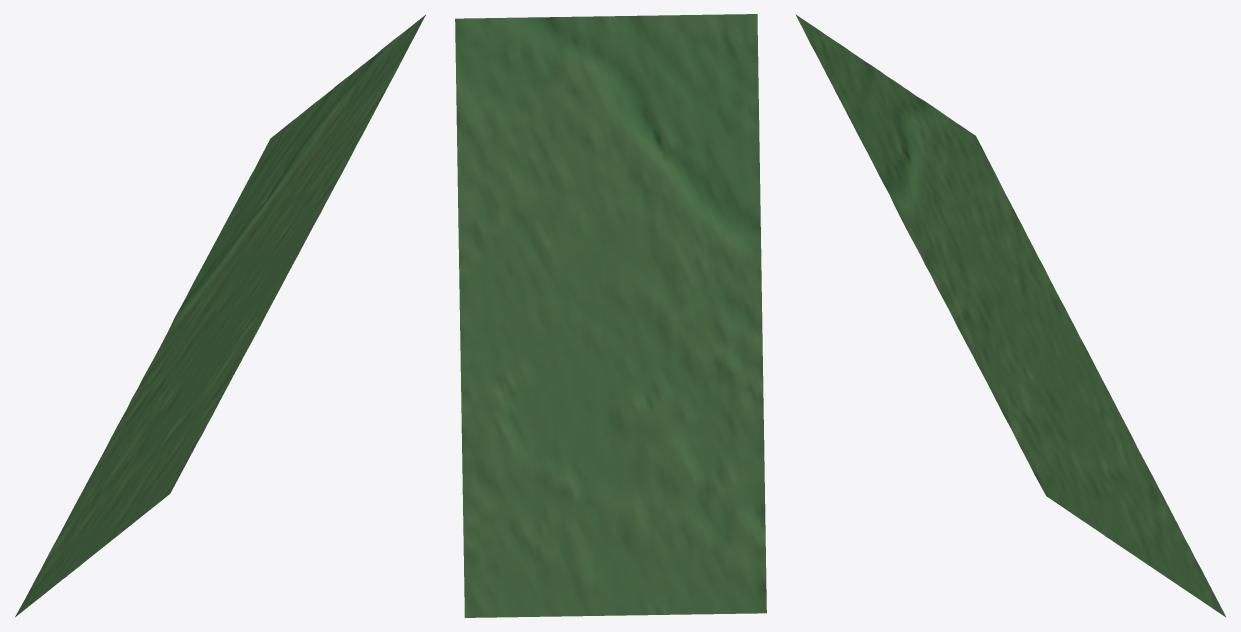
3 renders of one model, left to right at view 1: azimuth 30°, elevation 25°; view 2: azimuth 150°, elevation 25°; view 3: azimuth 270°, elevation 25°, orthographic. The views are drawn at different scales.
Size of the model in its own units: 9841 by 13383 by 9534.
